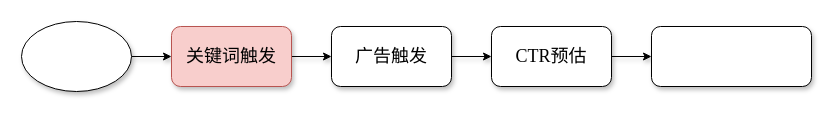
Image size: 835x116. Some labels were removed from this diagram. Each missing label, with the centre of its shape:
"query" goes at (x=77, y=57).
"排序、计价、展现" goes at (x=732, y=58).
